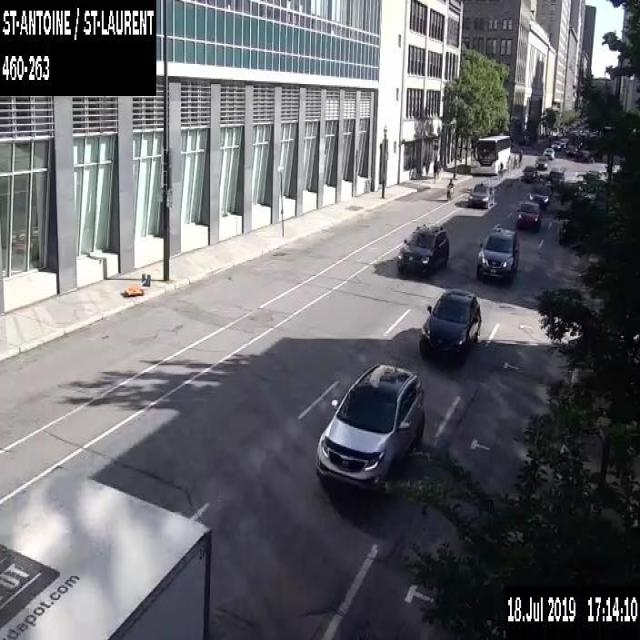bus: (470, 132, 510, 175)
construction: (125, 272, 150, 295)
cyclist: (446, 177, 454, 200)
pedestrian: (432, 159, 437, 182), (436, 160, 441, 179), (512, 153, 518, 168), (518, 149, 522, 164)
vehicle: (0, 462, 212, 638), (313, 361, 425, 491), (418, 288, 481, 365), (395, 223, 449, 277), (476, 222, 519, 281), (515, 199, 541, 231), (466, 180, 492, 208), (526, 183, 552, 206), (536, 172, 554, 190), (520, 164, 536, 180), (574, 149, 594, 161), (548, 166, 564, 180), (534, 154, 548, 168), (542, 147, 555, 158), (565, 144, 576, 157), (550, 140, 561, 149), (559, 138, 567, 148)
